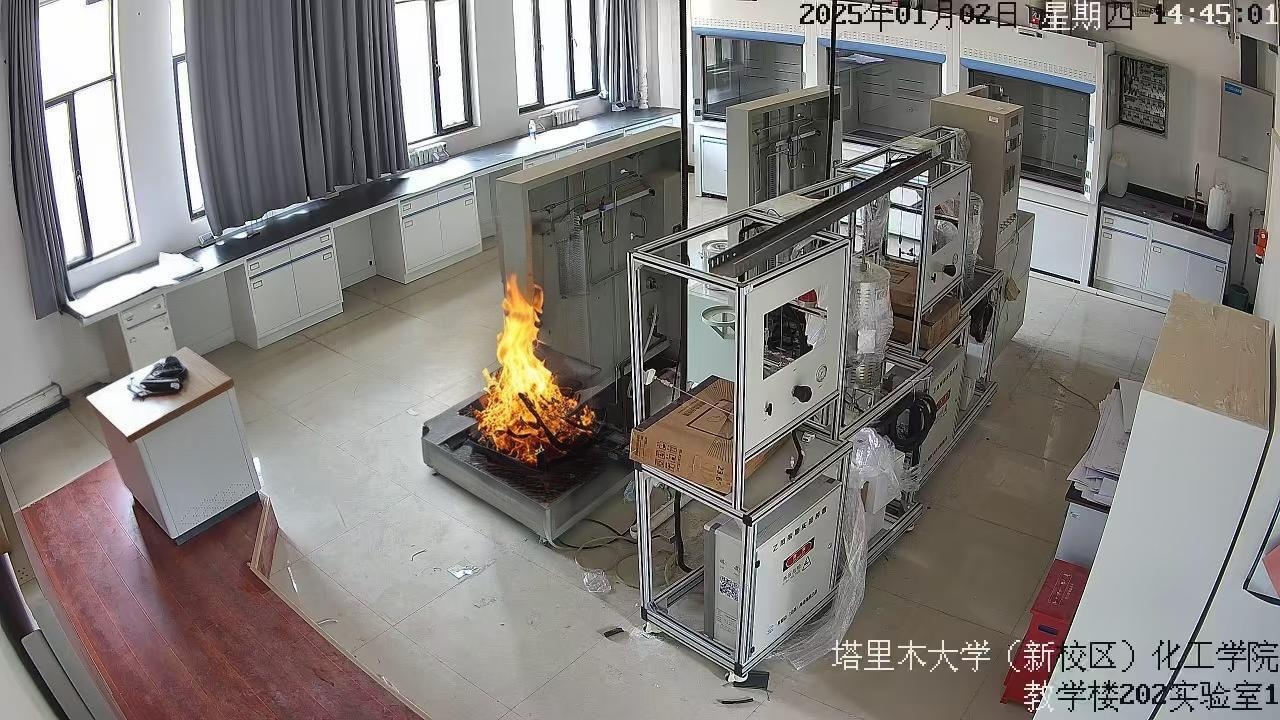fire: (470, 277, 599, 453)
